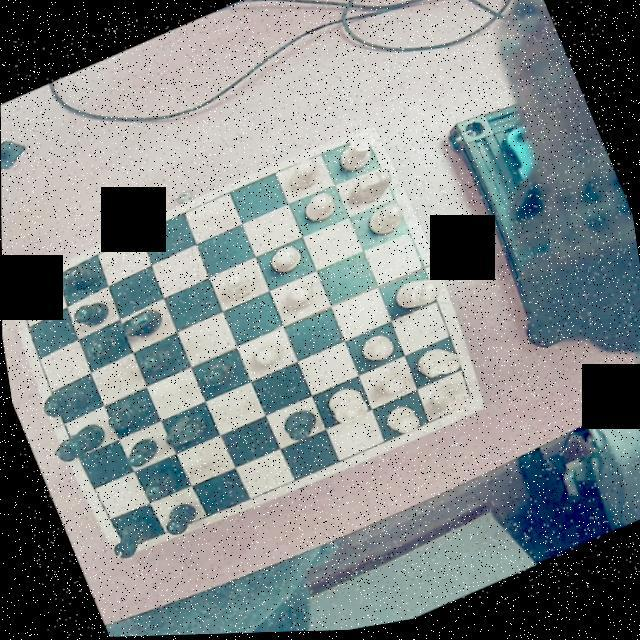chess-table-corners: (347, 128, 379, 160), (455, 388, 484, 418), (110, 534, 142, 560), (5, 287, 33, 313)
